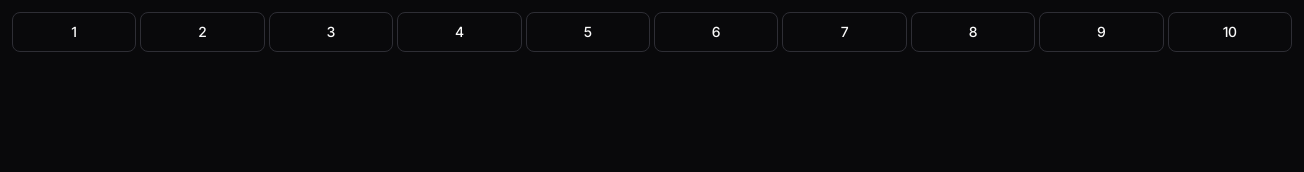
Scenario: RatingStrip › falls back to a generic message
Click the button "1": x=74, y=32 [12, 12, 136, 52]
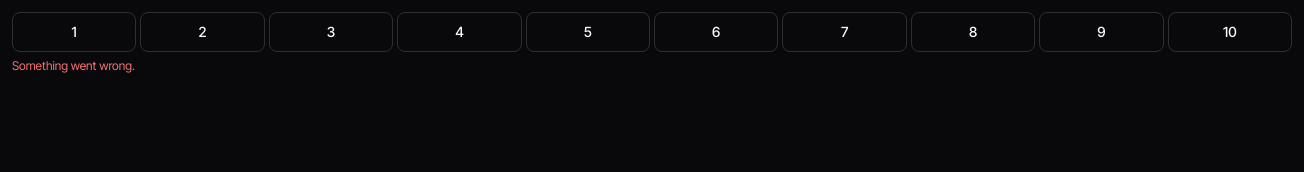
Check: the message reads "Something went wrong.", box [12, 58, 135, 73]
